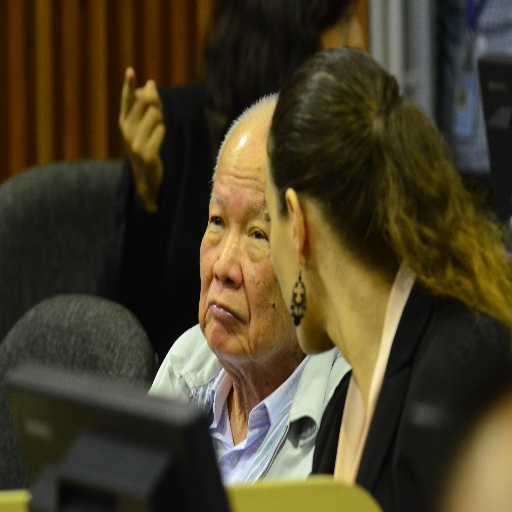hand: (116, 63, 166, 193)
